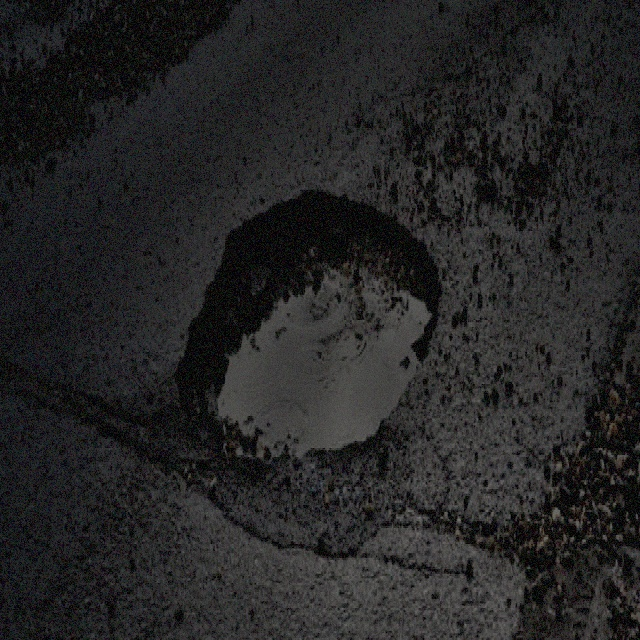pothole: (170, 178, 447, 462)
